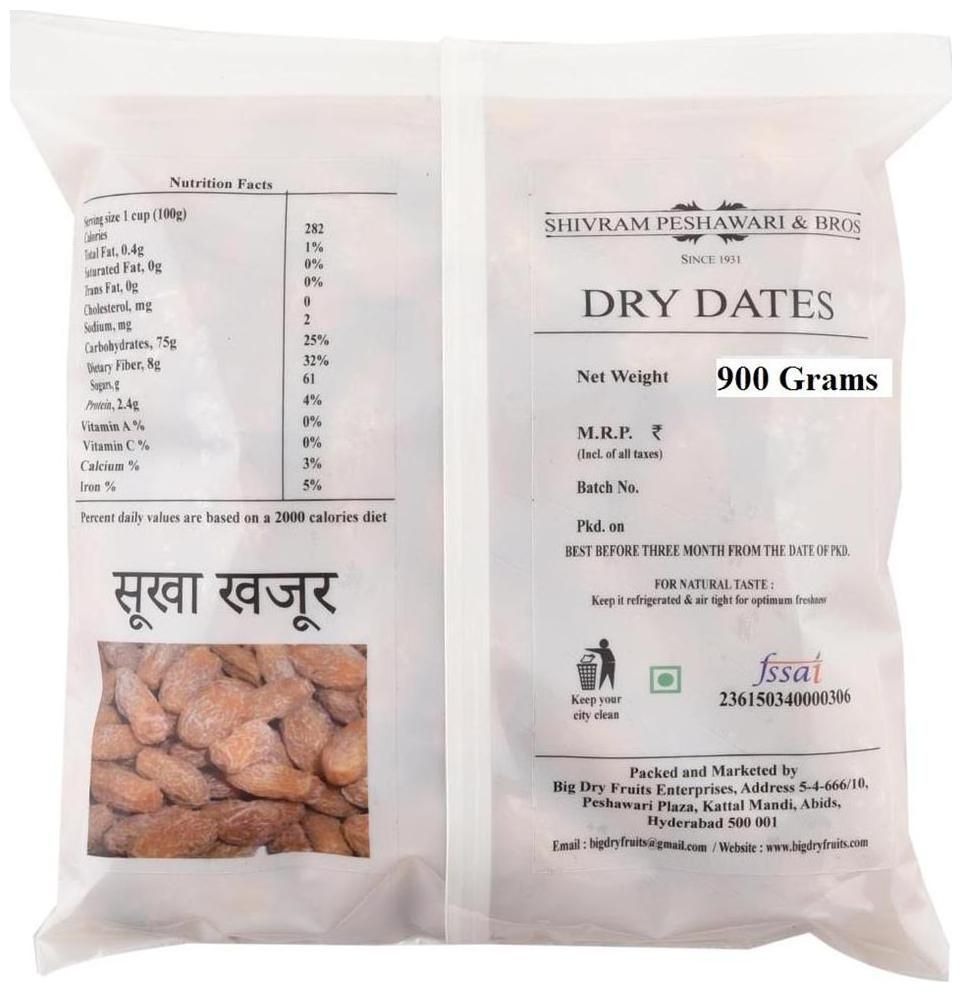fsaai: (751, 650, 824, 688)
